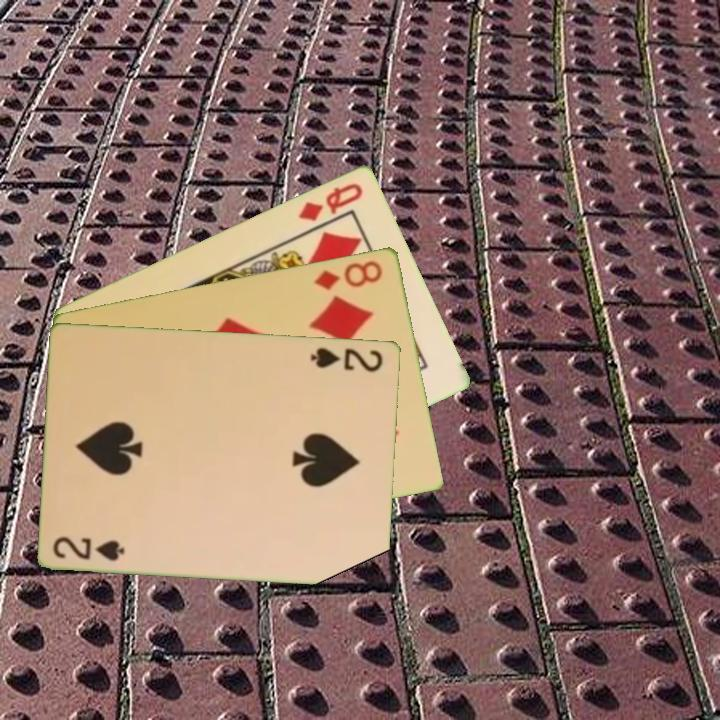2s: (307, 343, 386, 374), (50, 532, 128, 563)
8d: (311, 256, 386, 293)
Qd: (295, 178, 366, 224)
